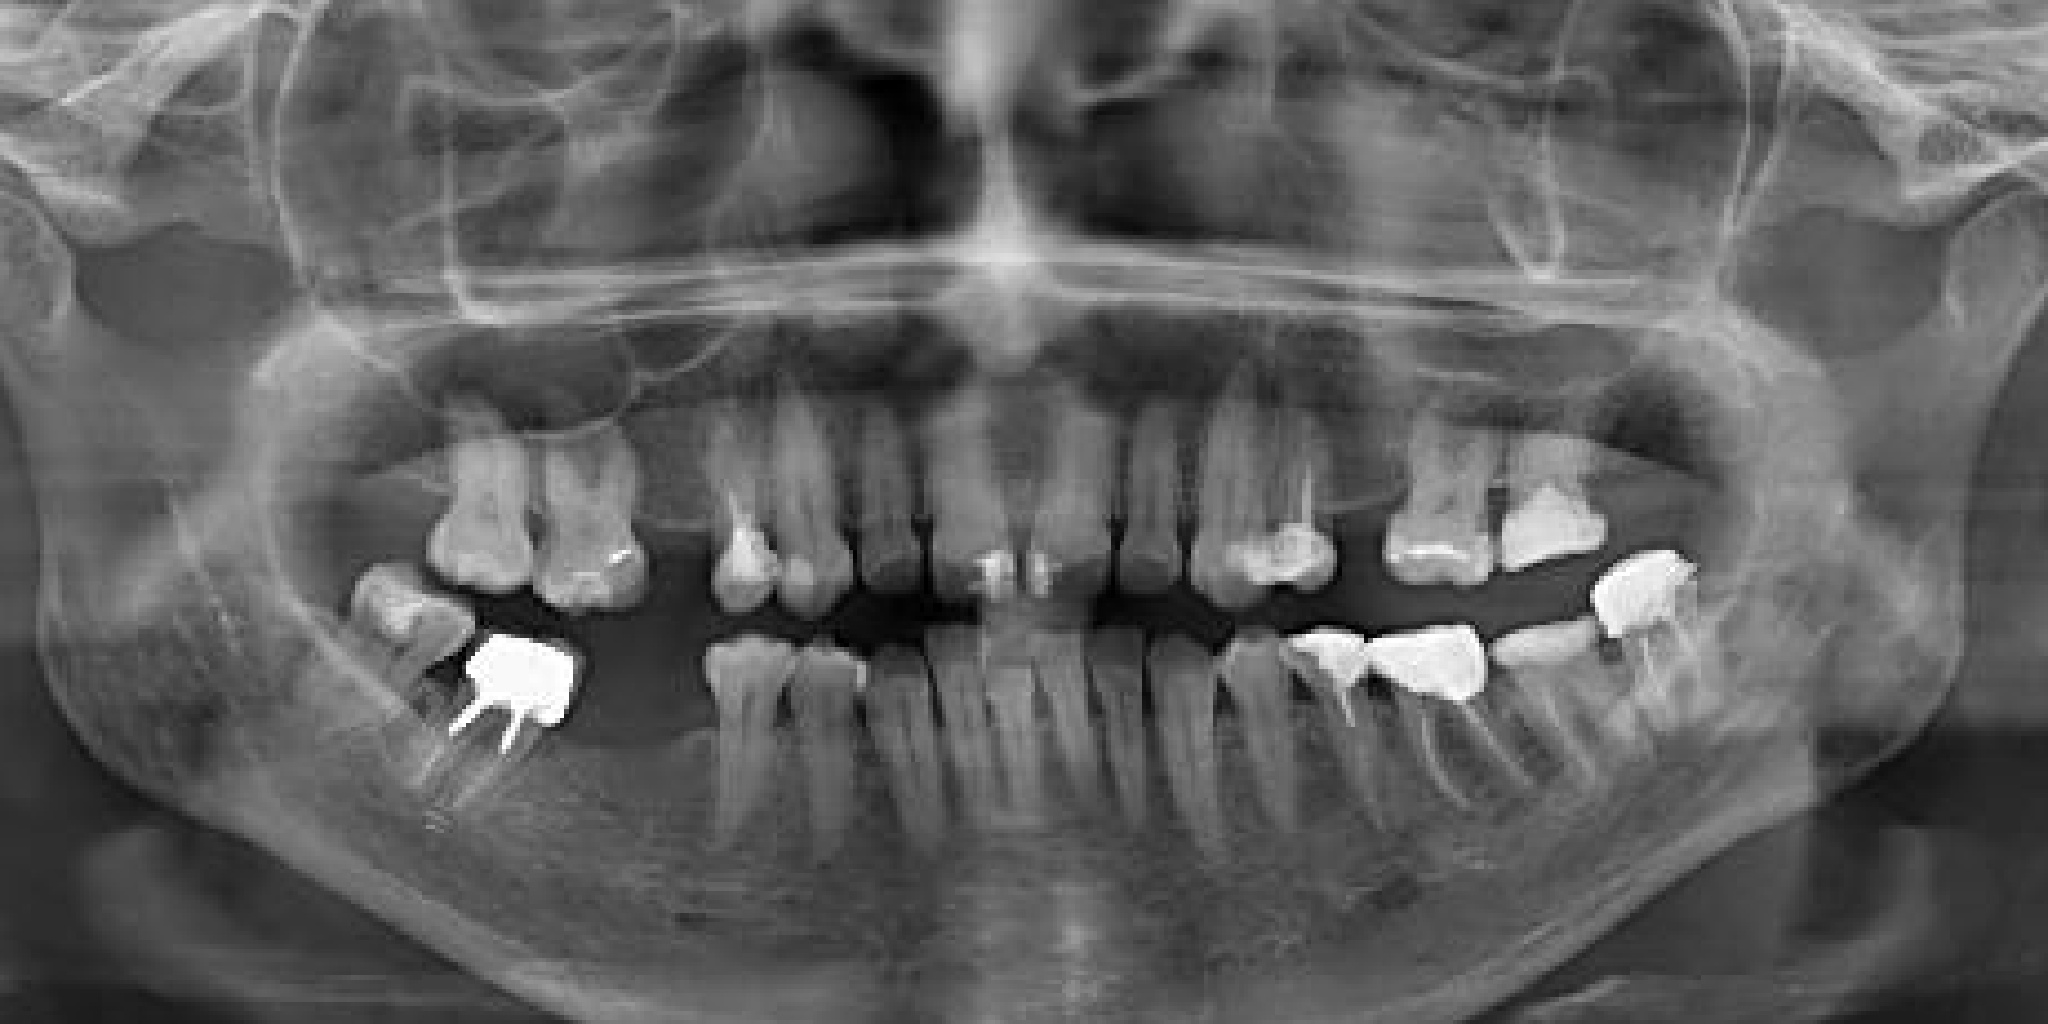Tooth: (1330, 580, 1574, 854), (391, 602, 600, 863), (277, 537, 494, 788), (485, 394, 679, 636), (1477, 586, 1673, 810), (389, 381, 556, 611), (1479, 368, 1642, 594), (664, 616, 808, 865), (1576, 534, 1738, 750), (1176, 351, 1294, 611), (761, 627, 876, 872), (1003, 392, 1134, 606), (848, 630, 969, 858), (1241, 360, 1343, 598), (910, 387, 1019, 605), (1021, 615, 1131, 824), (921, 614, 1015, 844), (970, 613, 1064, 833), (1106, 392, 1202, 607), (1084, 616, 1172, 849)
